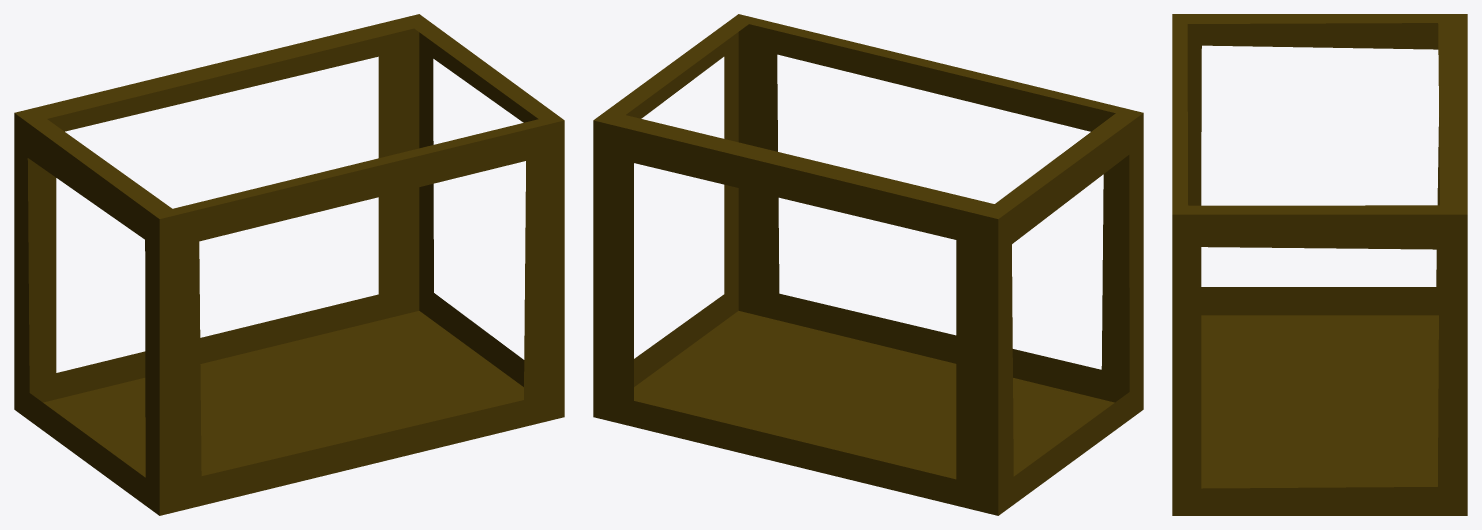
The model's file is shelfware.glb.
The picture shows the model from 3 angles, left to right: view 1: azimuth 30°, elevation 25°; view 2: azimuth 150°, elevation 25°; view 3: azimuth 270°, elevation 25°; orthographic projection.
Visible parts, largest first — view 1: Cube; view 2: Cube; view 3: Cube.
Part boxes in pixels (box(x1,y1,x2,y2)): Cube: box(14, 14, 564, 515); Cube: box(593, 14, 1143, 515); Cube: box(1172, 14, 1467, 515).
Size of the model in its own units: 3.99 by 2.79 by 2.48.
